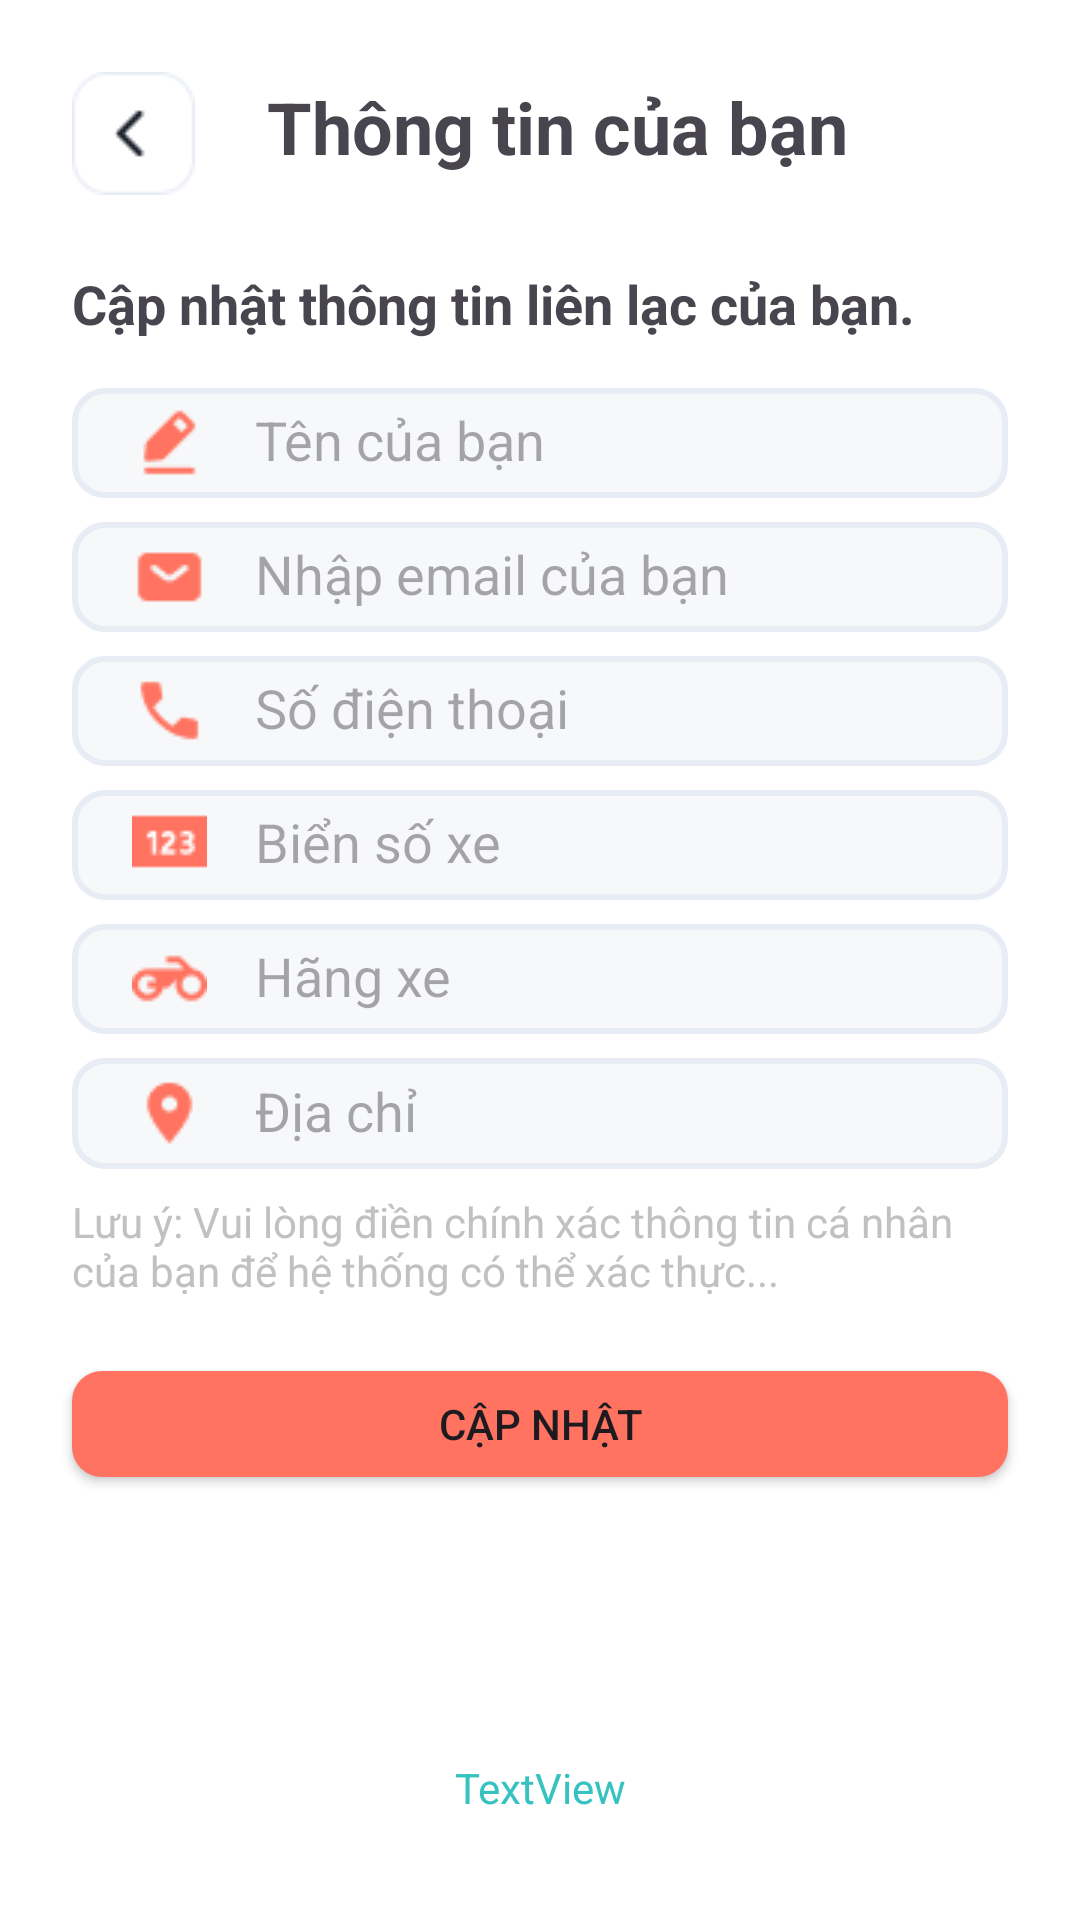

Named icons in this screenshot (1080x1920) and their centers, (x,y):
back: (130,133)
